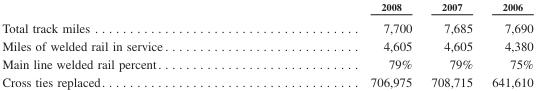table: (1, 0, 532, 88)
table column: (1, 0, 268, 88), (268, 0, 420, 88), (420, 0, 481, 88), (481, 0, 532, 88)
table column header: (1, 0, 532, 16)
table row: (1, 16, 532, 36), (1, 36, 532, 54), (1, 54, 532, 72), (1, 0, 532, 16), (1, 72, 532, 88)
